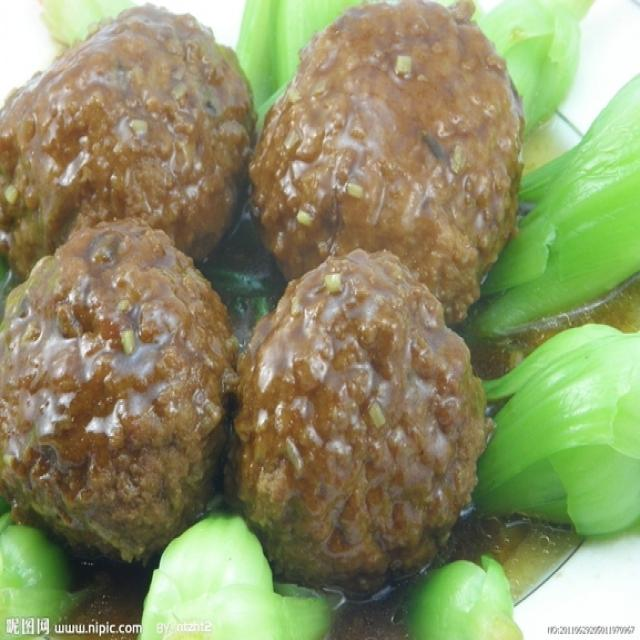Meatball: (253, 2, 537, 316), (224, 260, 497, 585), (0, 206, 231, 564), (0, 0, 258, 297)
